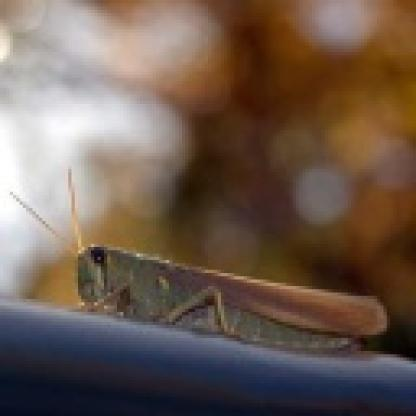grasshopper: (13, 170, 394, 361)
